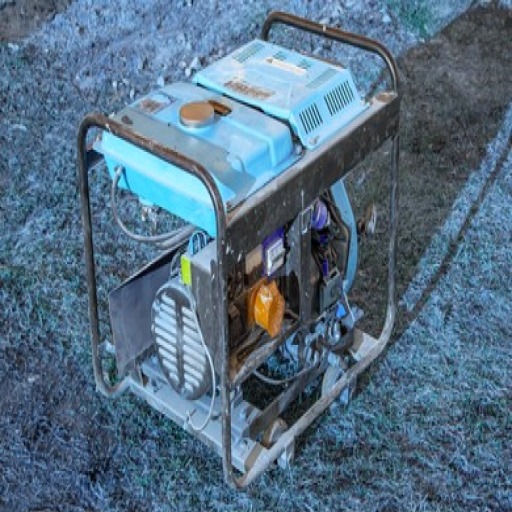portable_generator: (75, 11, 402, 493)
